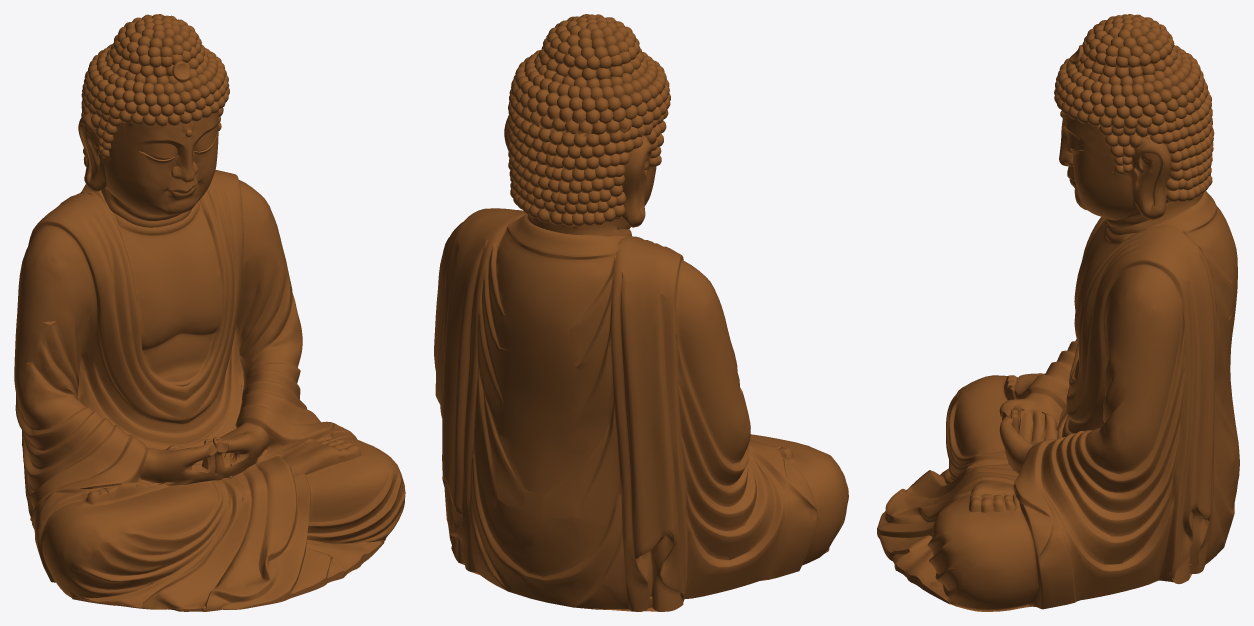
3 views of the same model, side by side, from view 1: azimuth 30°, elevation 25°; view 2: azimuth 150°, elevation 25°; view 3: azimuth 270°, elevation 25° (orthographic). The views are drawn at different scales.
Visible parts, largest first — view 1: body; view 2: body; view 3: body.
Boxes of the visible parts, bbox=[...] form: body: bbox=[14, 14, 405, 611]; body: bbox=[434, 14, 848, 611]; body: bbox=[877, 14, 1239, 611].
Size of the model in its own units: 2257 by 3193 by 2034.
